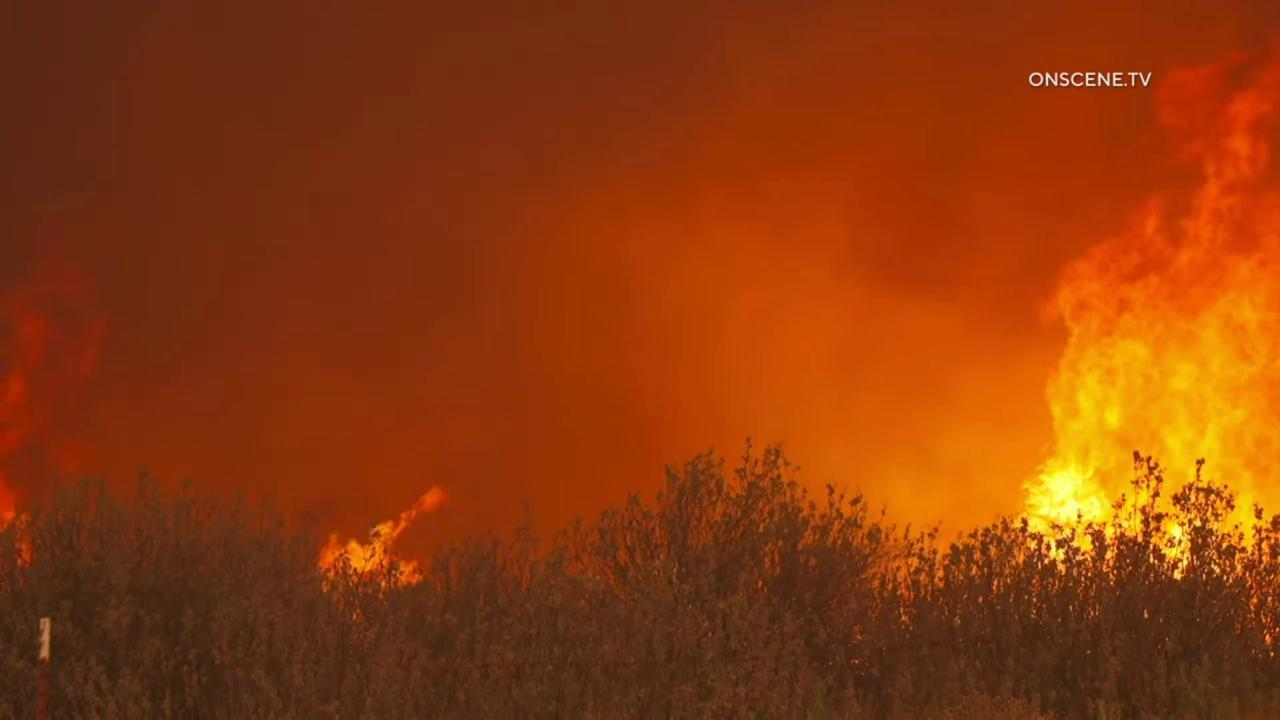fire: (1009, 40, 1280, 573), (0, 243, 115, 574), (301, 484, 455, 622)
smoke: (0, 0, 1280, 580)
